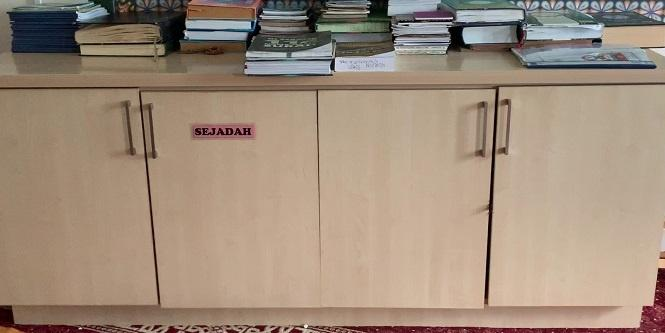cabinet_door: (320, 88, 494, 310), (149, 89, 321, 309), (496, 87, 660, 306), (4, 88, 149, 308)
handle: (497, 99, 520, 157), (115, 99, 138, 157), (141, 101, 162, 159), (470, 99, 491, 157)
